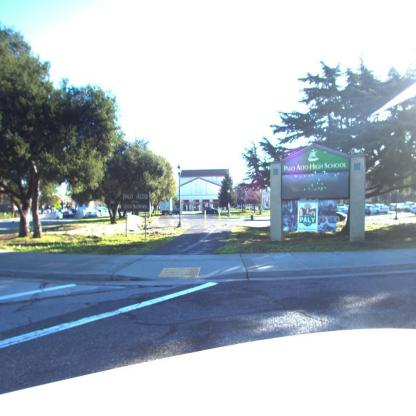car: (367, 204, 389, 214), (61, 210, 77, 219)
